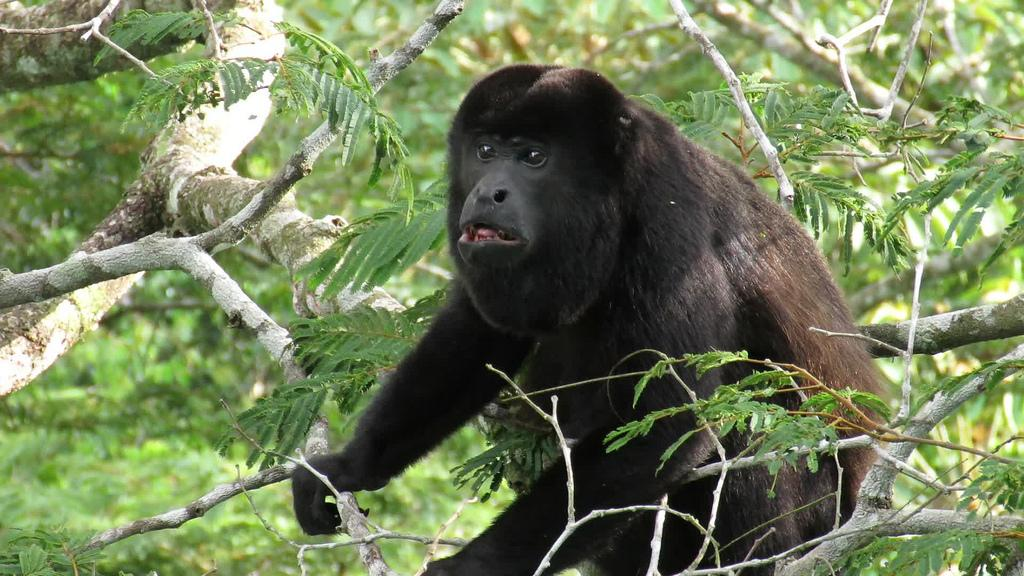monkey: (310, 64, 883, 493), (533, 376, 876, 565), (424, 460, 567, 575)
